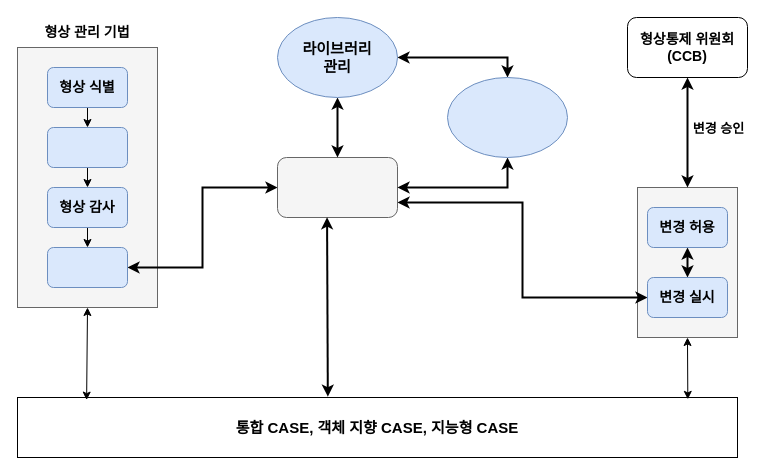
This 765x475 diagram has some shape labels left out. The centre of each missing label's shape, as x and y in pixels:
Repository: (337,187)
메타 데이터: (507,117)
형상 기록: (87,267)
형상 통제: (87,147)
